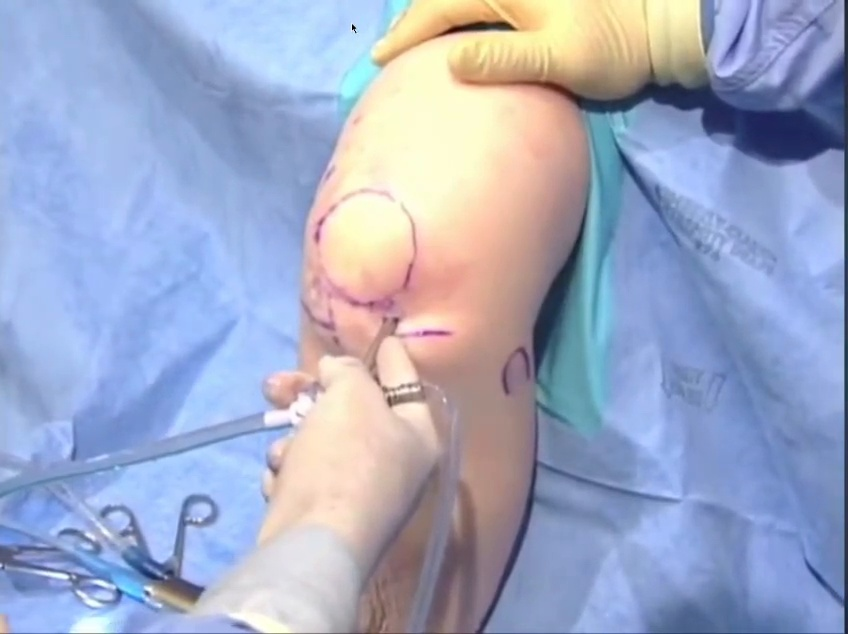arthroscope: (424, 13, 748, 634), (86, 140, 402, 502)
probe: (733, 140, 848, 634), (587, 0, 848, 117), (23, 280, 103, 435), (95, 137, 174, 237)
